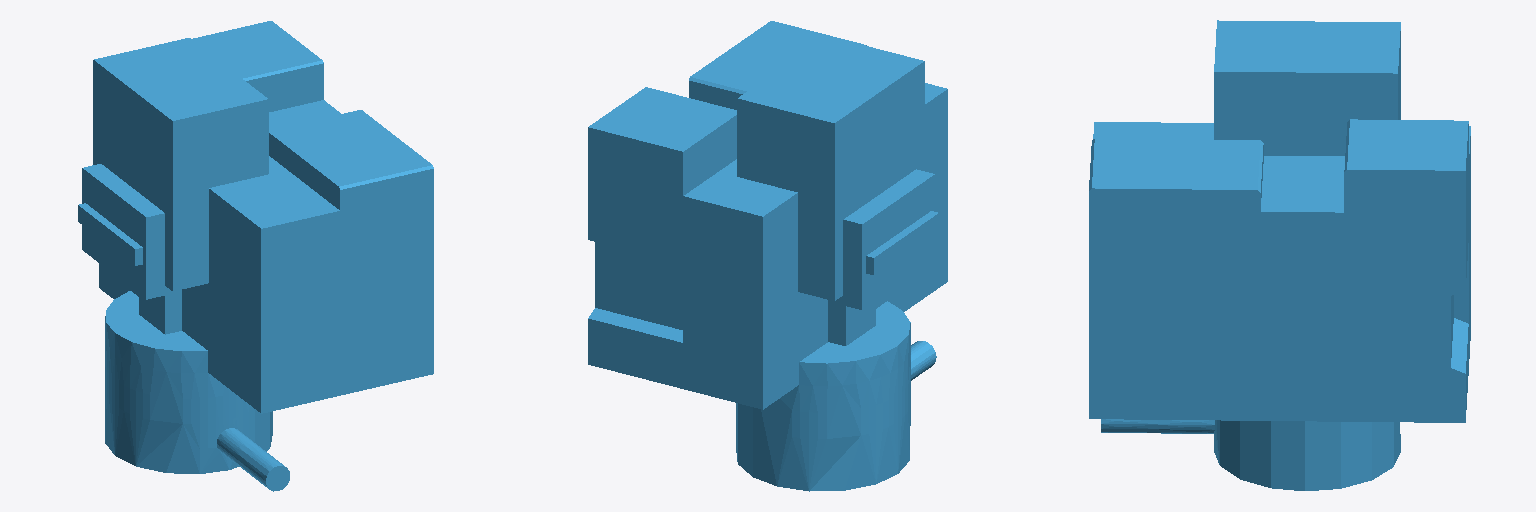
robot.urdf — grasp_screw_tool_unactuated:
<?xml version="1.0"?>
<robot name="grasp_screw_tool_unactuated">
  <link name="base_link"/>

  <link name="grasp_screw_tool_link">
    <visual>
      <geometry>
        <mesh filename="package://grasp_screw_tool_description/meshes/collision/grasp_screw_tool_collision.stl"/>
        <!-- <mesh filename="package://grasp_screw_tool_description/meshes/visual/grasp_screw_tool_visual.stl"/> -->
      </geometry>
    </visual>
    <collision>
      <geometry>
        <mesh filename="package://grasp_screw_tool_description/meshes/collision/grasp_screw_tool_collision.stl"/>
      </geometry>
    </collision>
  </link>

  <joint name="base_to_tool" type="fixed">
    <parent link="base_link"/>
    <child link="grasp_screw_tool_link"/>
    <origin xyz="0 0 0" rpy="0 0 0"/>
  </joint>
</robot>

--- Facts derived from the render (not from the file) ---
3 views of the same robot in one strip: view 1: azimuth 30°, elevation 25°; view 2: azimuth 150°, elevation 25°; view 3: azimuth 270°, elevation 25° (orthographic).
Model grasp_screw_tool_unactuated with 2 links and 1 joints (1 fixed), rooted at base_link, posed all joints at 0.
Links seen in each view (by area): view 1: grasp_screw_tool_link; view 2: grasp_screw_tool_link; view 3: grasp_screw_tool_link.
Boxes of the visible links, x1,y1,x2,y2 form: grasp_screw_tool_link: [78, 21, 433, 491]; grasp_screw_tool_link: [588, 21, 947, 491]; grasp_screw_tool_link: [1089, 20, 1470, 490].
Size in the robot's own frame: 0.102 by 0.1288 by 0.149 metres.
1 mesh visuals loaded from 1 distinct referenced files (1 binary STL).
